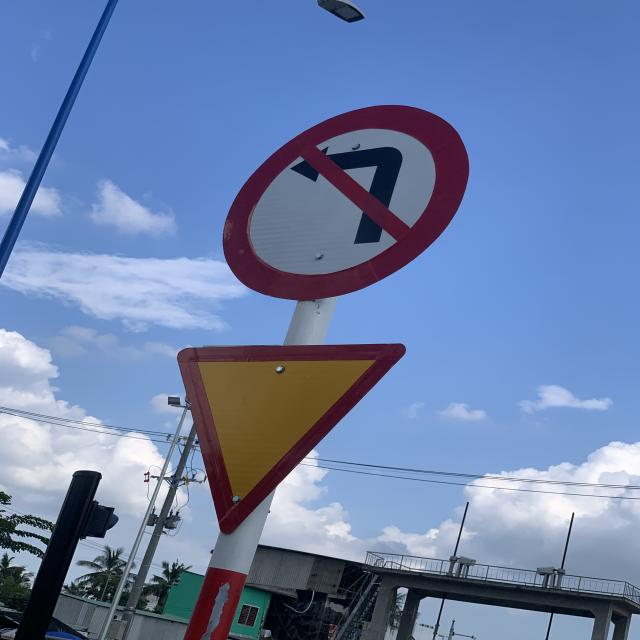Cam_Re_Trai: (208, 103, 475, 298)
Gioi_Han_Toc_Do_25: (176, 343, 406, 533)
